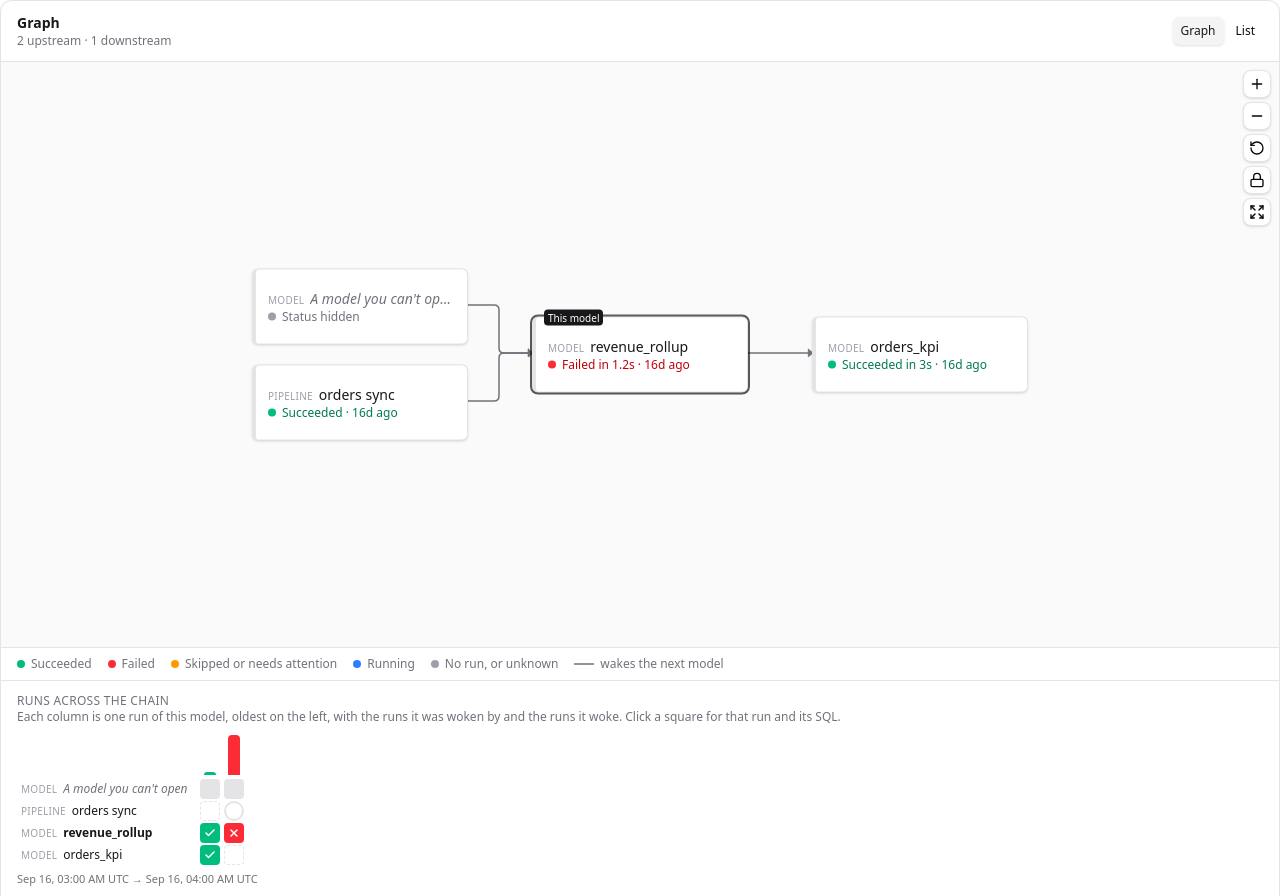
it: ModelLineageGraph › the run panel and the run grid › opens this model's own card, shows a failed run's error, and says so when the SQL route refuses
Expected: the number of elements with class "react-flow__node" is 4, left=532, top=316, right=748, bottom=392; left=252, top=268, right=468, bottom=344; left=812, top=316, right=1028, bottom=392; left=252, top=364, right=468, bottom=440
Click the text "revenue_rollup" below "Status hidden" at (639, 346), box left=590, top=336, right=688, bottom=356
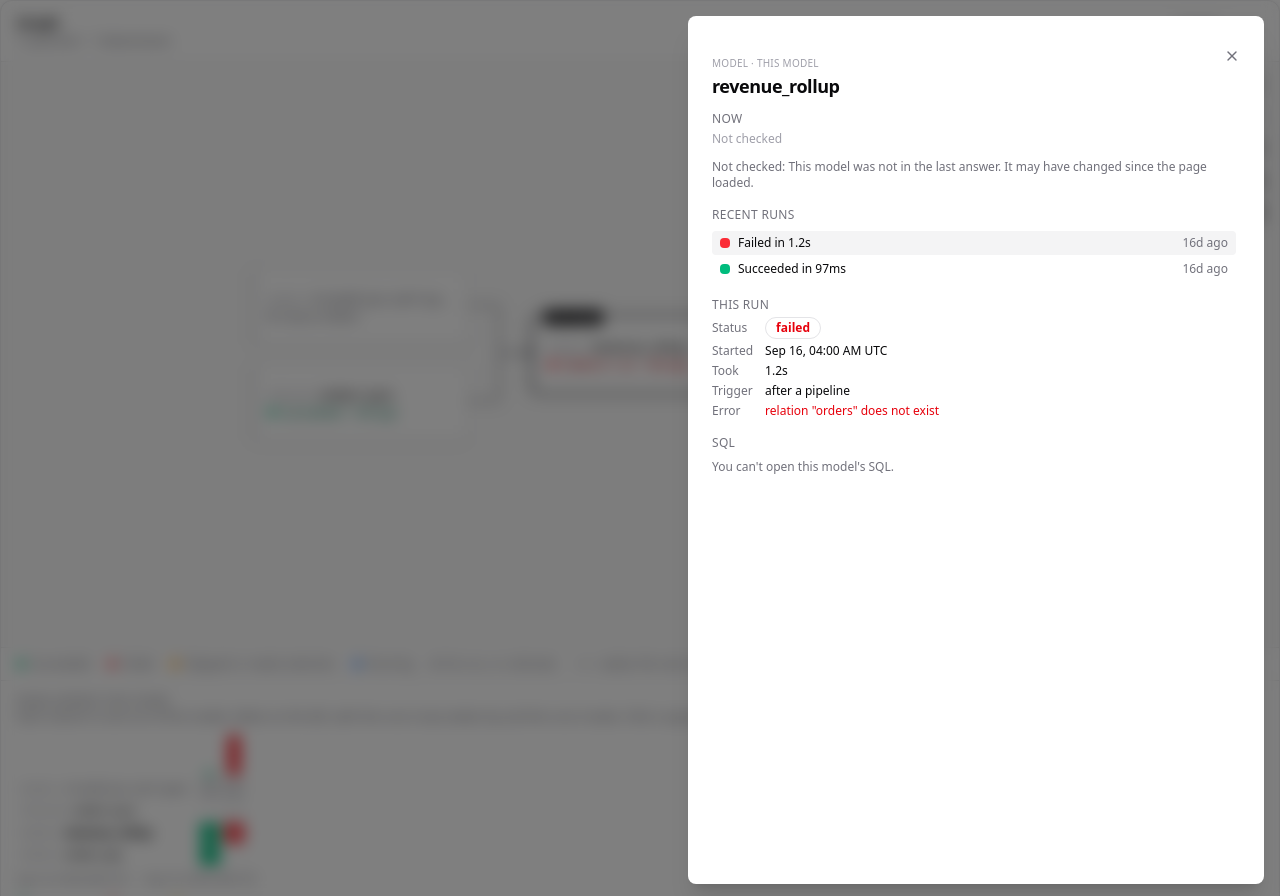
Expected: the text "relation \"orders\" does not exist" is shown, left=765, top=402, right=939, bottom=419
Expected: the text "after a pipeline" is shown, left=765, top=382, right=850, bottom=399
Expected: the text "You can't open this model's SQL." is shown, left=712, top=458, right=894, bottom=475
Click the button "Succeeded in 97ms 16d ago" at (792, 268), box left=712, top=257, right=1236, bottom=281
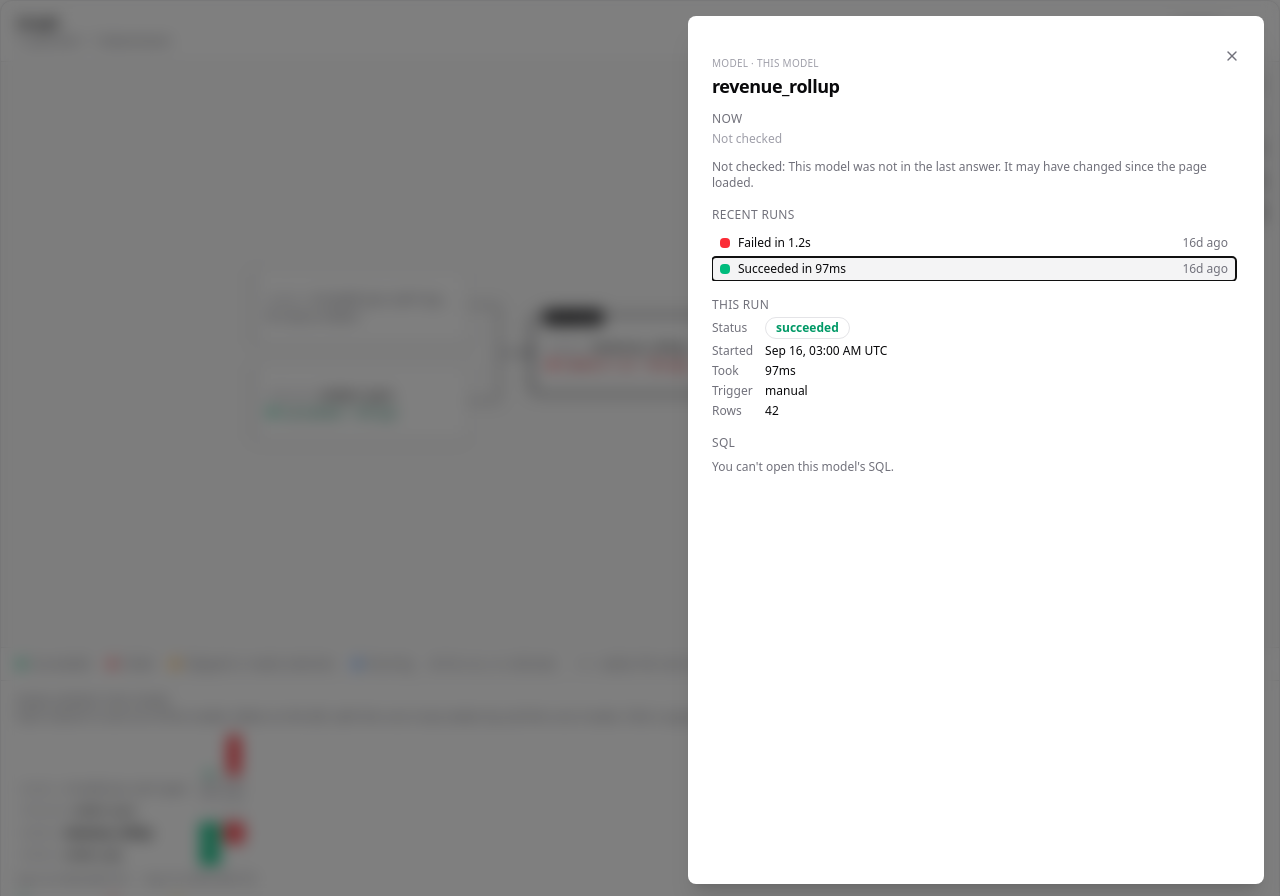
Expected: the text "manual" is shown, left=765, top=382, right=808, bottom=399
Expected: the text "42" is shown, left=765, top=402, right=779, bottom=419
Expected: the text "relation \"orders\" does not exist" is gone
